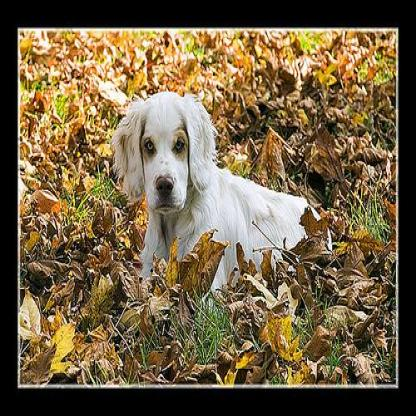clumber: (109, 88, 337, 315)
